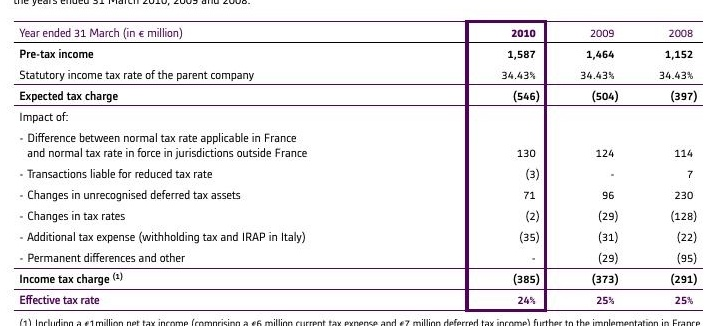table: (0, 0, 723, 326)
